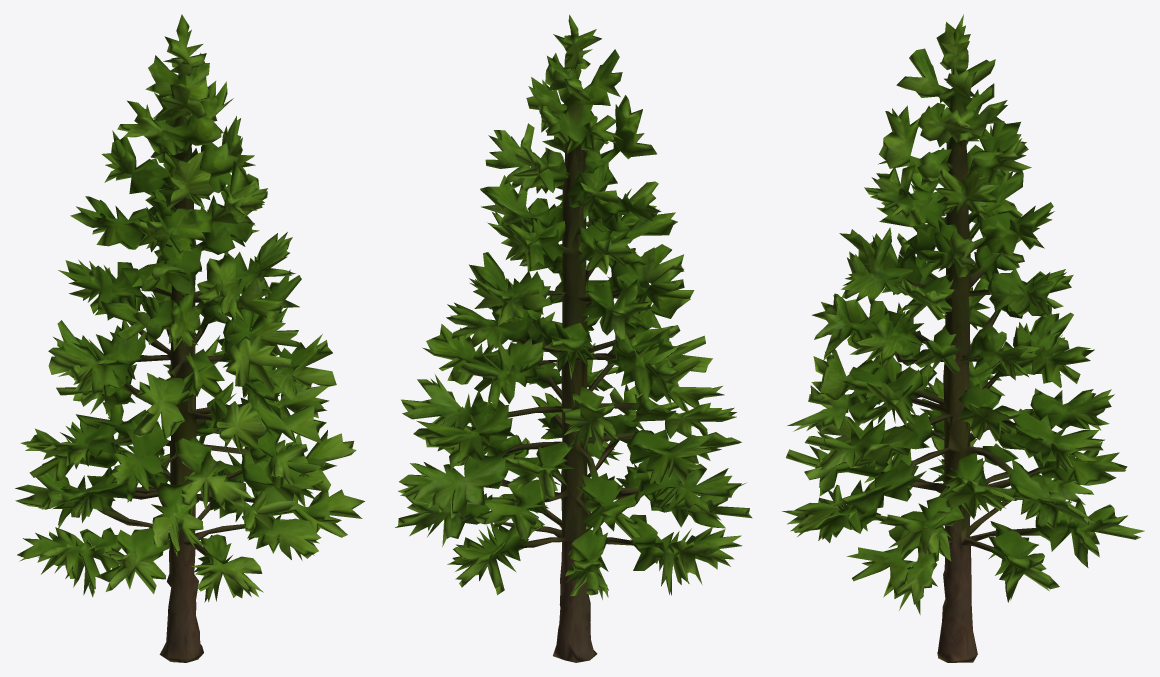
Rendered from pine_tree.glb.
3 renders of one model, left to right at view 1: azimuth 30°, elevation 25°; view 2: azimuth 150°, elevation 25°; view 3: azimuth 270°, elevation 25°, orthographic.
Visible parts, largest first — view 1: tripo_node_9fc91889-15da-4374-9257-d194e3cdb94e; view 2: tripo_node_9fc91889-15da-4374-9257-d194e3cdb94e; view 3: tripo_node_9fc91889-15da-4374-9257-d194e3cdb94e.
Part boxes in pixels (x1=…): tripo_node_9fc91889-15da-4374-9257-d194e3cdb94e: x1=15, y1=14, x2=364, y2=662; tripo_node_9fc91889-15da-4374-9257-d194e3cdb94e: x1=395, y1=14, x2=752, y2=662; tripo_node_9fc91889-15da-4374-9257-d194e3cdb94e: x1=782, y1=14, x2=1144, y2=662.
Bounding box in the file's own units: 0.5314 × 1 × 0.5131.
1 material, 1 textured.
